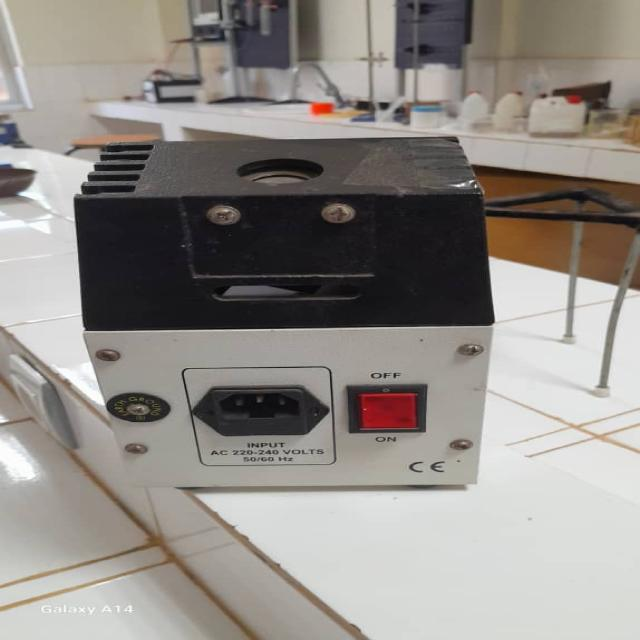Melting Point Apparatus: (72, 134, 510, 490)
